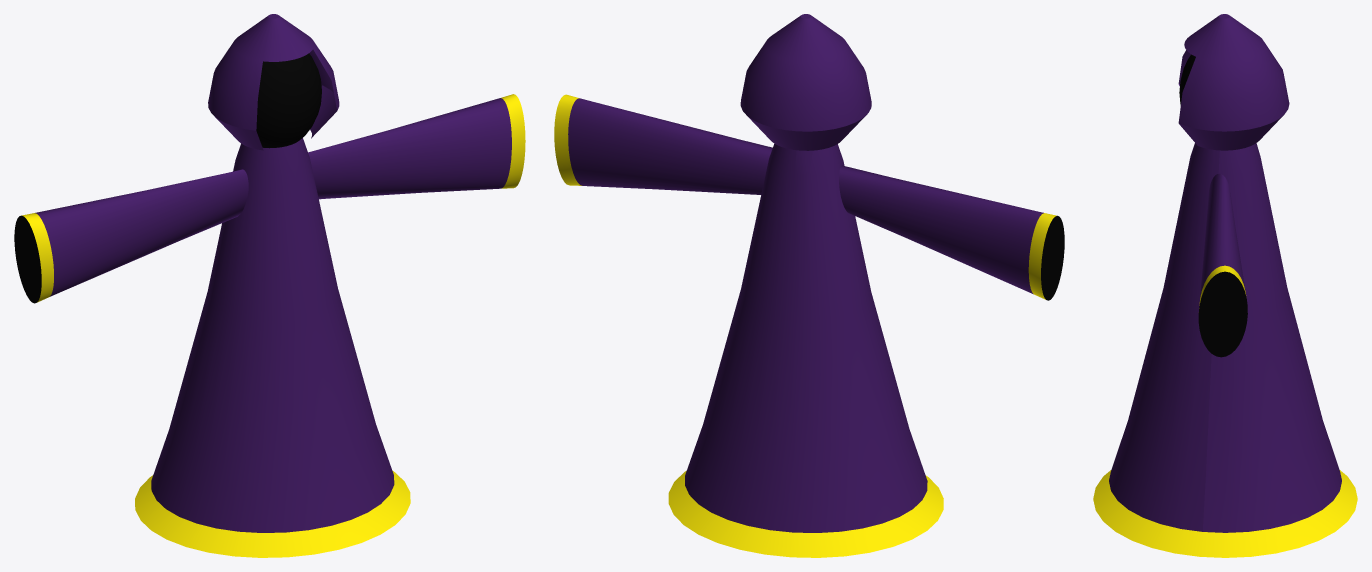
Rendered from cultist v3.fbx.
3 views of the same model, side by side, from view 1: azimuth 30°, elevation 25°; view 2: azimuth 150°, elevation 25°; view 3: azimuth 270°, elevation 25° (orthographic).
Parts seen in each view (by area): view 1: Body, Right Arm, Left Arm, Helm, Head; view 2: Body, Left Arm, Right Arm, Helm; view 3: Body, Helm, Left Arm.
Boxes of the visible parts, x1,y1,x2,y2 form: Body: [135, 138, 410, 557]; Right Arm: [14, 169, 248, 303]; Left Arm: [308, 94, 525, 199]; Helm: [208, 14, 339, 150]; Head: [256, 53, 321, 148]; Body: [668, 143, 943, 557]; Left Arm: [554, 94, 772, 194]; Right Arm: [839, 165, 1064, 300]; Helm: [740, 14, 871, 150]; Body: [1093, 143, 1357, 557]; Helm: [1178, 14, 1289, 150]; Left Arm: [1198, 173, 1247, 357].
Bounding box in the file's own units: 1228 × 1156 × 574.
